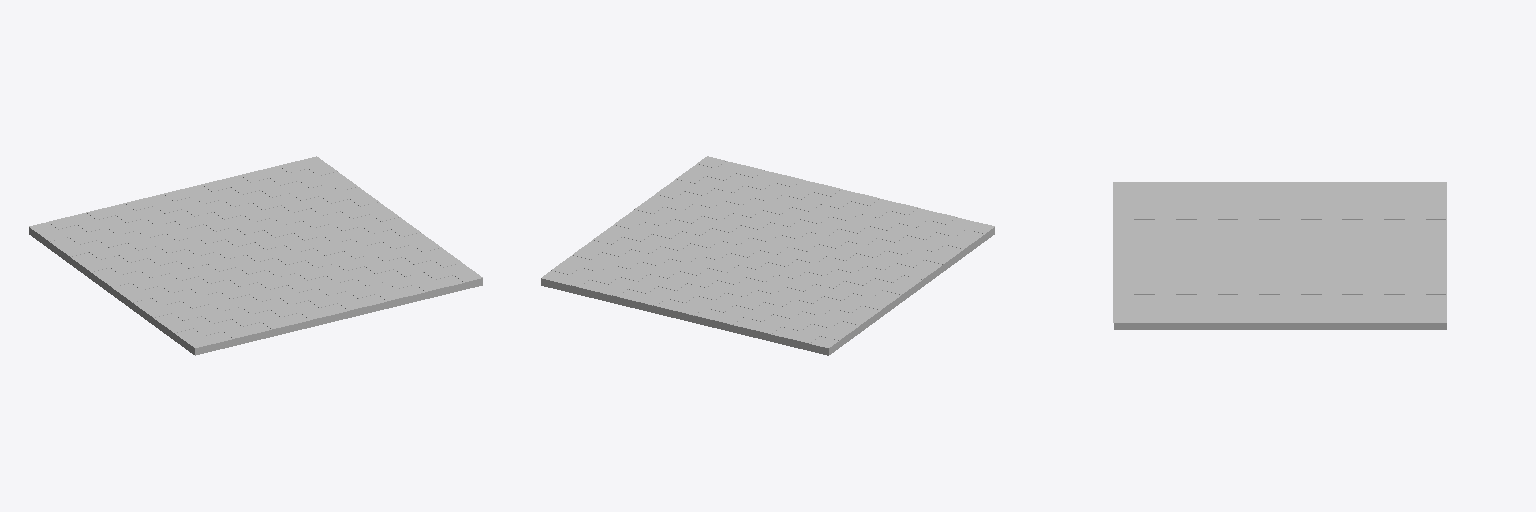
The model's file is BrakeRoomFloor.obj.
3 views of the same model, side by side, from view 1: azimuth 30°, elevation 25°; view 2: azimuth 150°, elevation 25°; view 3: azimuth 270°, elevation 25° (orthographic).
Parts seen in each view (by area): view 1: BrakeRoomFloor; view 2: BrakeRoomFloor; view 3: BrakeRoomFloor.
Boxes of the visible parts, x1=… form: BrakeRoomFloor: x1=29, y1=156, x2=482, y2=355; BrakeRoomFloor: x1=541, y1=156, x2=994, y2=355; BrakeRoomFloor: x1=1113, y1=182, x2=1446, y2=329.
Size of the model in its own units: 25.6 by 0.6427 by 25.61.